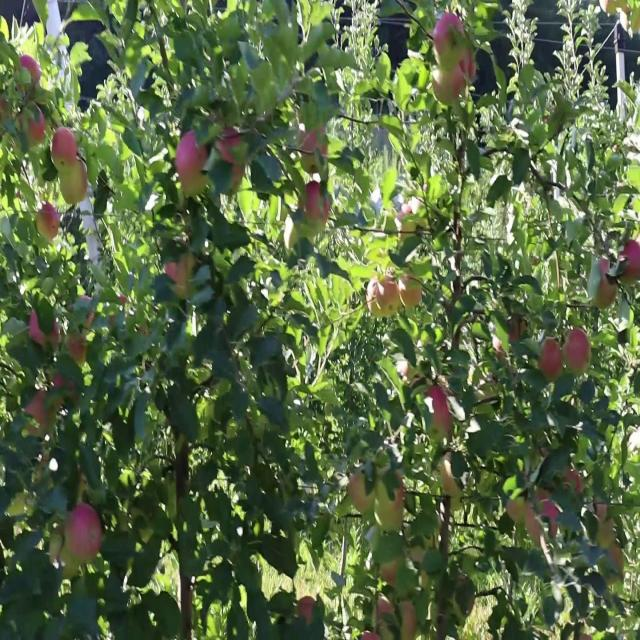apple: (68, 504, 104, 564), (376, 469, 405, 533), (432, 14, 466, 66), (432, 63, 465, 110), (176, 135, 209, 178), (220, 127, 244, 185), (368, 277, 400, 320), (532, 490, 560, 539), (564, 327, 592, 375), (428, 383, 454, 434), (348, 469, 376, 516), (60, 163, 89, 208), (304, 184, 332, 226), (592, 271, 619, 313), (164, 255, 196, 290), (52, 127, 79, 165), (32, 312, 60, 348), (300, 127, 330, 160), (540, 341, 564, 380), (220, 127, 241, 169), (36, 206, 60, 242), (28, 391, 49, 432), (620, 241, 640, 284), (52, 376, 78, 409), (440, 455, 459, 498), (400, 277, 424, 311), (20, 56, 41, 87), (460, 49, 478, 85), (396, 206, 415, 240), (68, 334, 88, 364), (28, 113, 47, 144), (564, 469, 583, 496), (404, 604, 419, 638), (600, 519, 616, 549), (300, 597, 317, 624), (508, 497, 527, 521), (508, 319, 527, 343), (384, 561, 400, 588), (612, 540, 624, 574), (380, 597, 395, 619), (4, 99, 16, 124), (600, 255, 613, 277), (400, 362, 412, 382), (596, 504, 608, 521)
